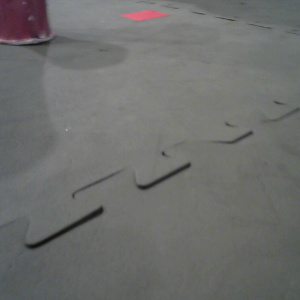middle: (1, 1, 56, 48)
